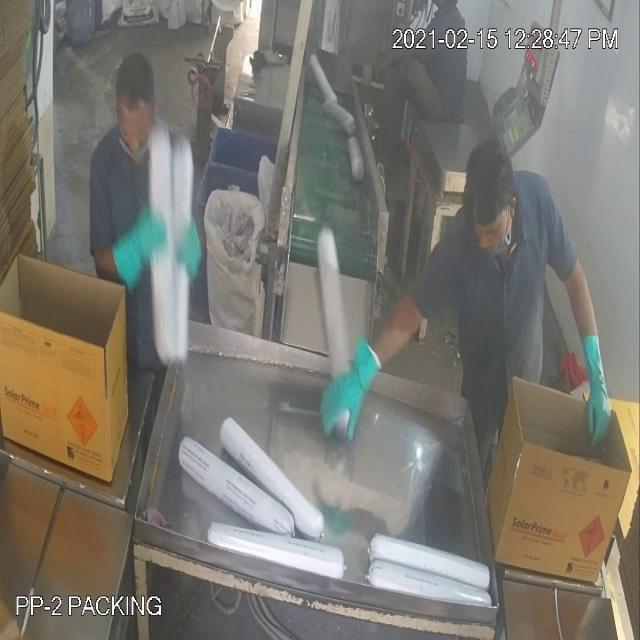Gloves: (50, 94, 599, 390)
